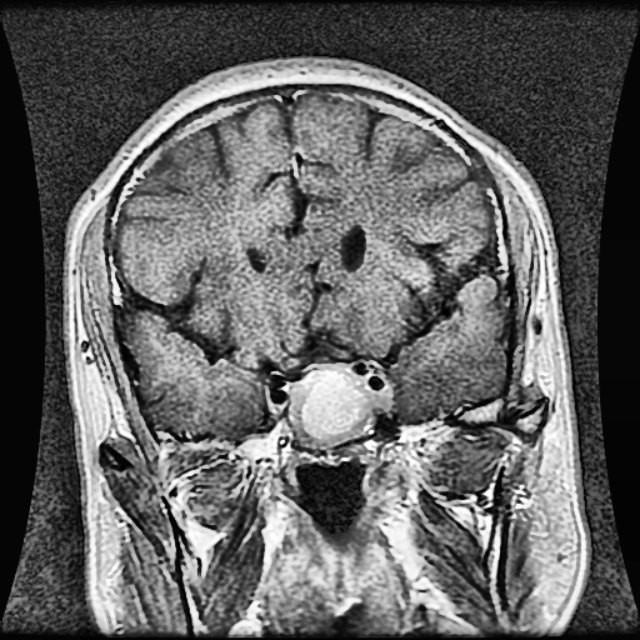Pituitary: (289, 365, 394, 449)
